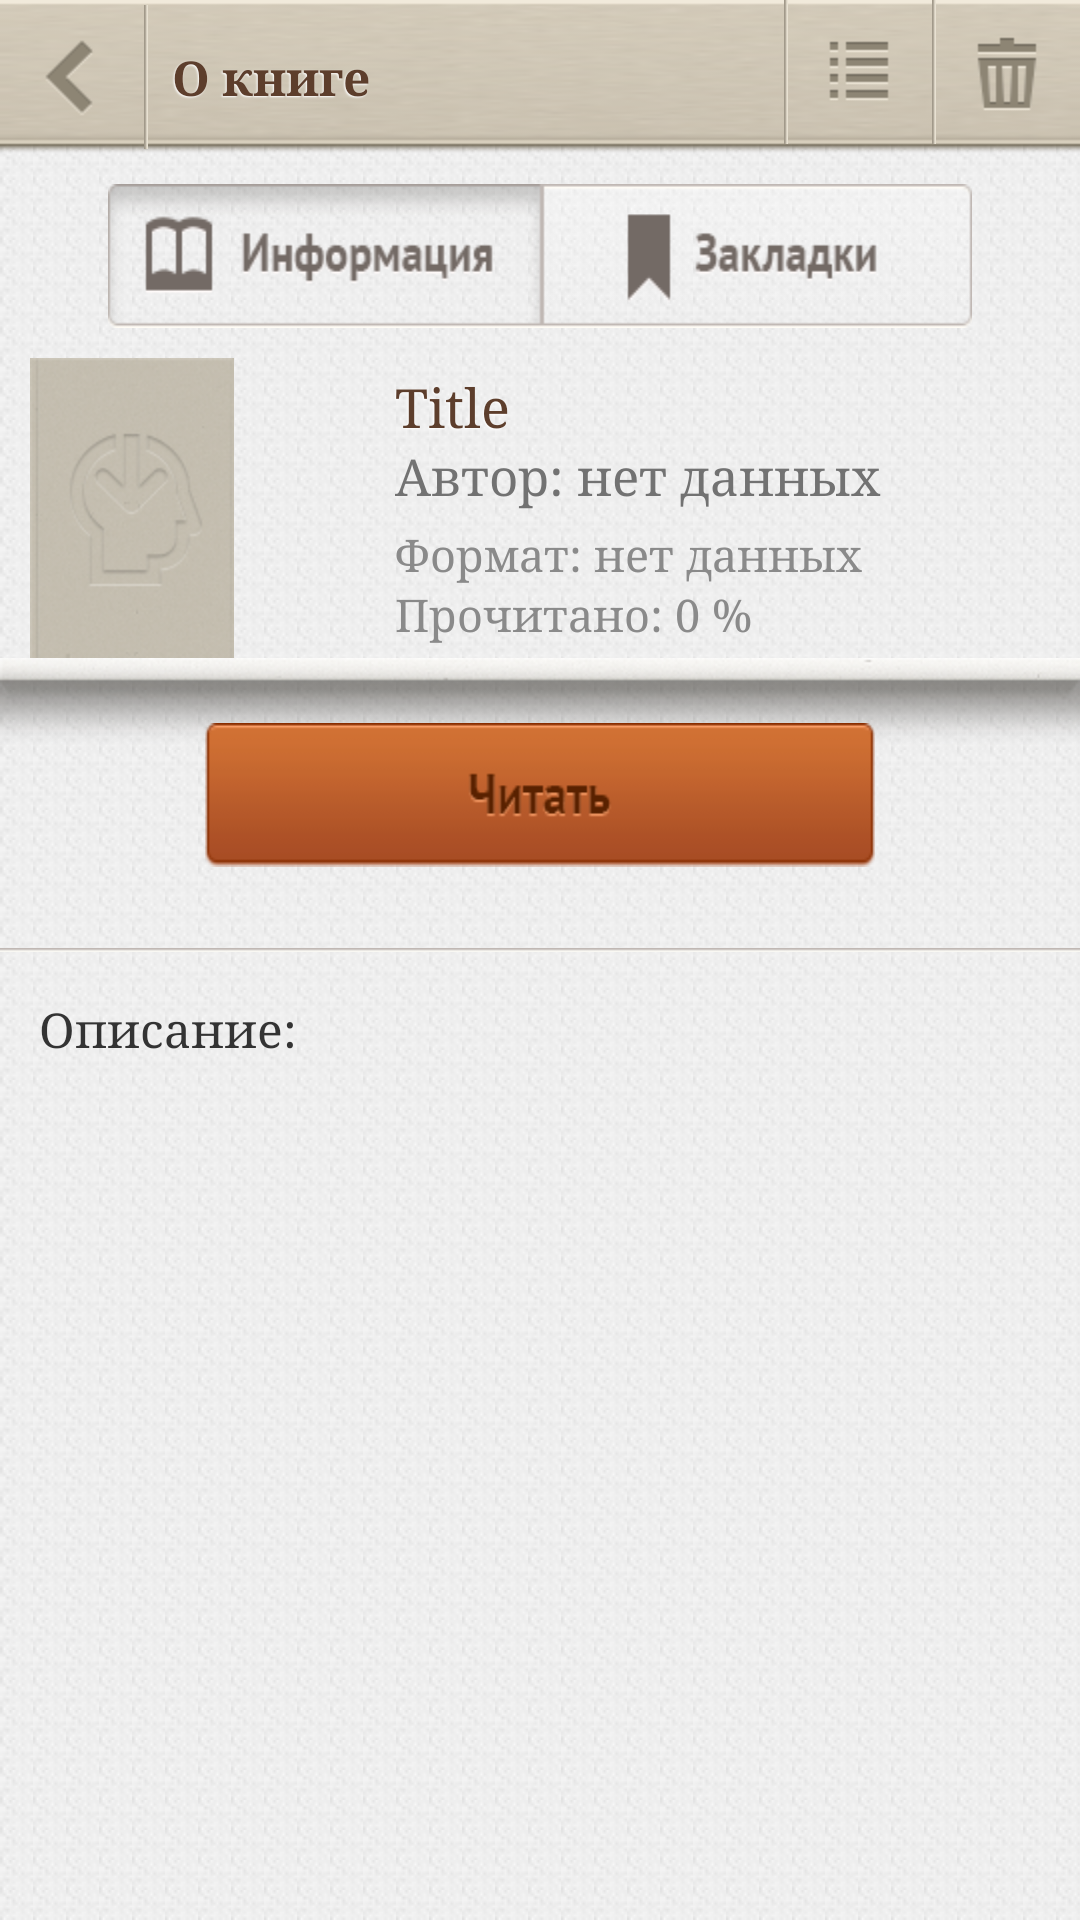

Point at icon controls on the screen. Image size 1080 x 1920, points as (x,y).
butt back: (72,77)
butt content: (860,72)
butt trash: (1008,72)
